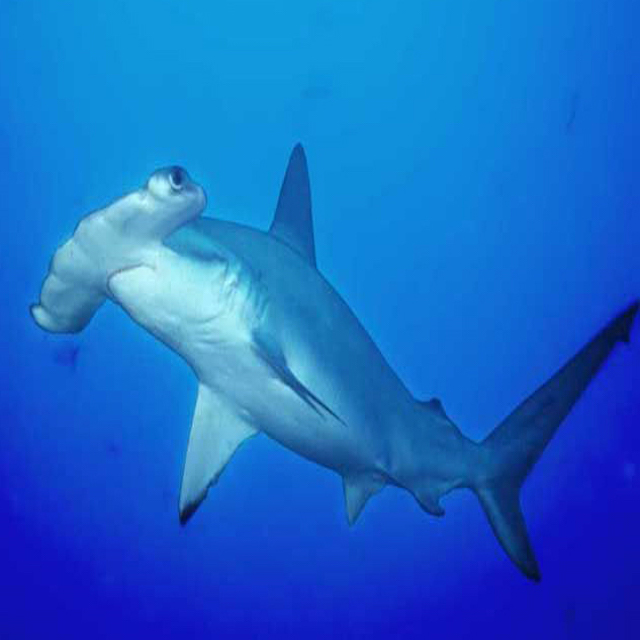hammerhead: (39, 158, 315, 397)
